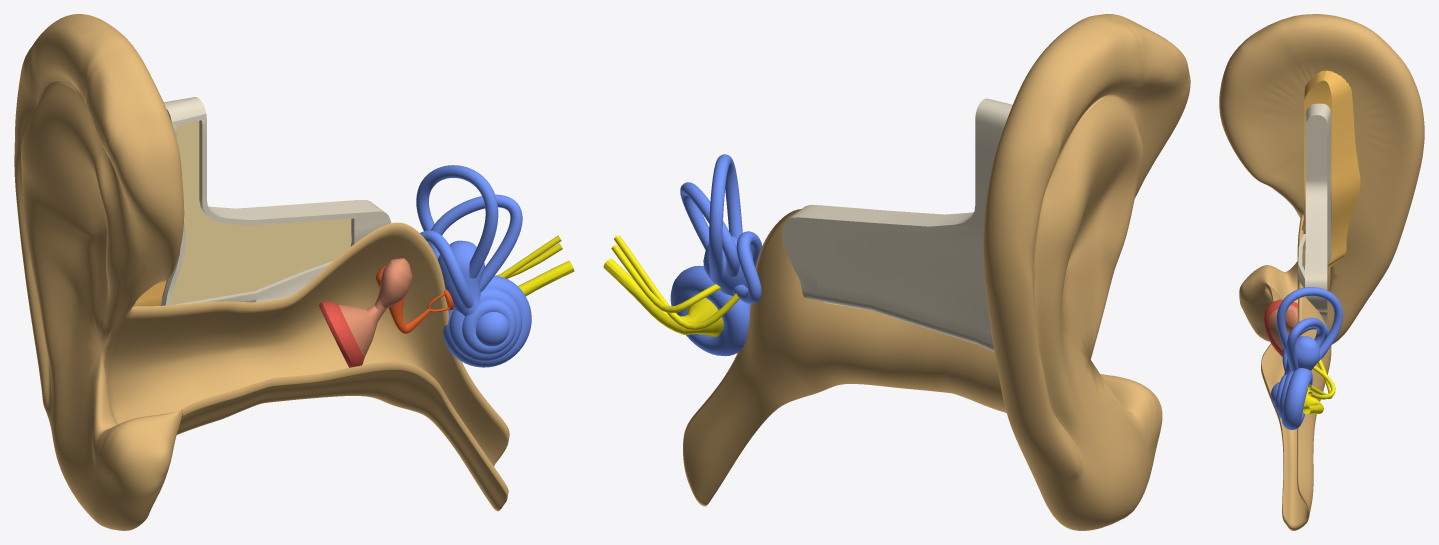
File: ear2.glb
The picture shows the model from 3 angles, left to right: view 1: azimuth 30°, elevation 25°; view 2: azimuth 150°, elevation 25°; view 3: azimuth 270°, elevation 25°; orthographic projection. The views are drawn at different scales.
Visible parts, largest first — view 1: Plane.001_2, Cube.001_11, Cube_10, BezierCurve_7, Torus.002_5, Sphere.001_4, Cylinder_6, Sphere_3, Sphere.005_16, BezierCurve.002_13, BezierCurve.001_12; view 2: Plane.001_2, Cube_10, BezierCurve_7, Torus.002_5, BezierCurve.002_13, BezierCurve.001_12, Cylinder_6; view 3: Plane.001_2, Cube_10, Plane_8, BezierCurve_7, Torus.002_5, Cylinder_6, Sphere.001_4, BezierCurve.002_13, Sphere_3, BezierCurve.001_12.
Boxes of the visible parts, left/top/right/bottom form: Plane.001_2: left=14, top=14, right=509, bottom=530; Cube.001_11: left=169, top=121, right=351, bottom=305; Cube_10: left=161, top=97, right=391, bottom=305; BezierCurve_7: left=416, top=165, right=522, bottom=308; Torus.002_5: left=443, top=275, right=531, bottom=367; Sphere.001_4: left=339, top=258, right=412, bottom=357; Cylinder_6: left=438, top=240, right=484, bottom=316; Sphere_3: left=319, top=301, right=364, bottom=367; Sphere.005_16: left=376, top=265, right=453, bottom=333; BezierCurve.002_13: left=496, top=235, right=562, bottom=278; BezierCurve.001_12: left=518, top=260, right=574, bottom=296; Plane.001_2: left=683, top=14, right=1190, bottom=530; Cube_10: left=781, top=98, right=1012, bottom=351; BezierCurve_7: left=680, top=154, right=762, bottom=303; Torus.002_5: left=670, top=265, right=750, bottom=356; BezierCurve.002_13: left=611, top=235, right=740, bottom=330; BezierCurve.001_12: left=603, top=258, right=723, bottom=336; Cylinder_6: left=703, top=236, right=753, bottom=295; Plane.001_2: left=1219, top=14, right=1424, bottom=530; Cube_10: left=1298, top=103, right=1331, bottom=323; Plane_8: left=1301, top=70, right=1360, bottom=269; BezierCurve_7: left=1276, top=287, right=1342, bottom=371; Torus.002_5: left=1271, top=368, right=1312, bottom=429; Cylinder_6: left=1284, top=336, right=1319, bottom=374; Sphere.001_4: left=1269, top=305, right=1297, bottom=350; BezierCurve.002_13: left=1307, top=359, right=1335, bottom=399; Sphere_3: left=1264, top=299, right=1297, bottom=356; BezierCurve.001_12: left=1302, top=389, right=1323, bottom=414.
Bounding box in the file's own units: 5.2 × 5.48 × 2.64.
